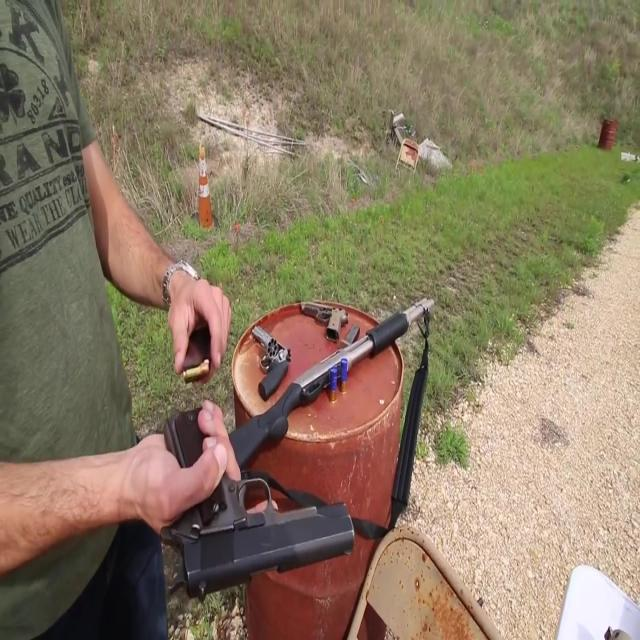Weapon: (123, 258, 473, 602)
